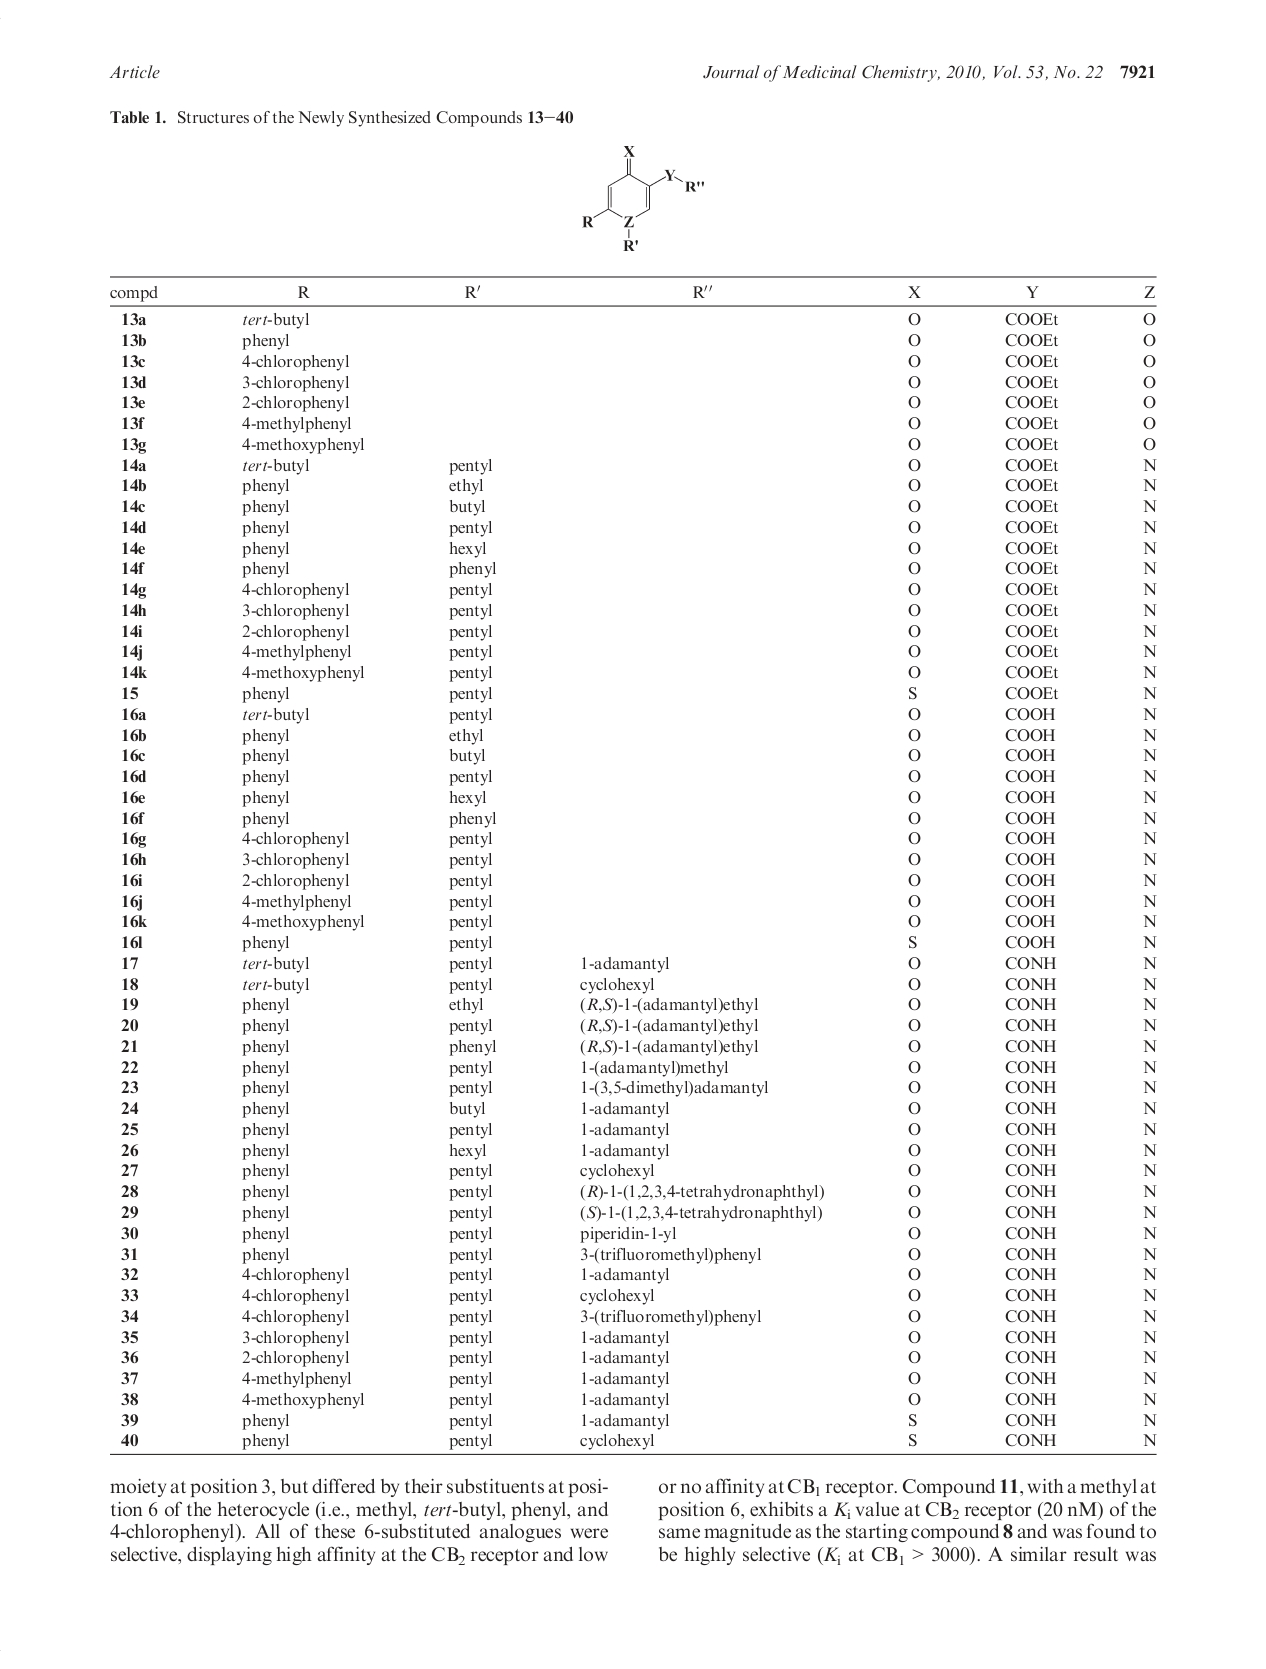exist_molecular: (578, 140, 706, 255)
